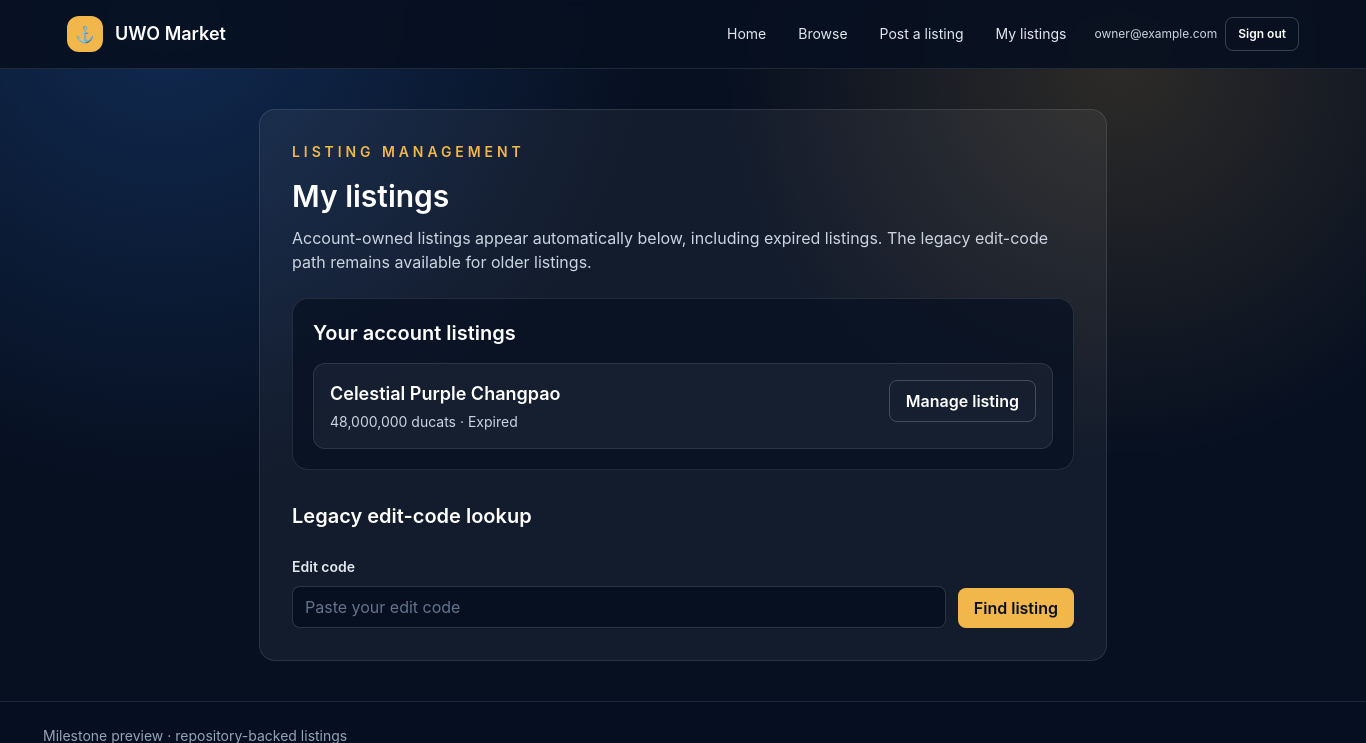
manage listings page › edits an equipment listing's stats and saves them
The width and height of the screenshot is (1366, 743).
Click the button "Manage listing" at (962, 401), box [889,380,1036,422]
(page scrolled)
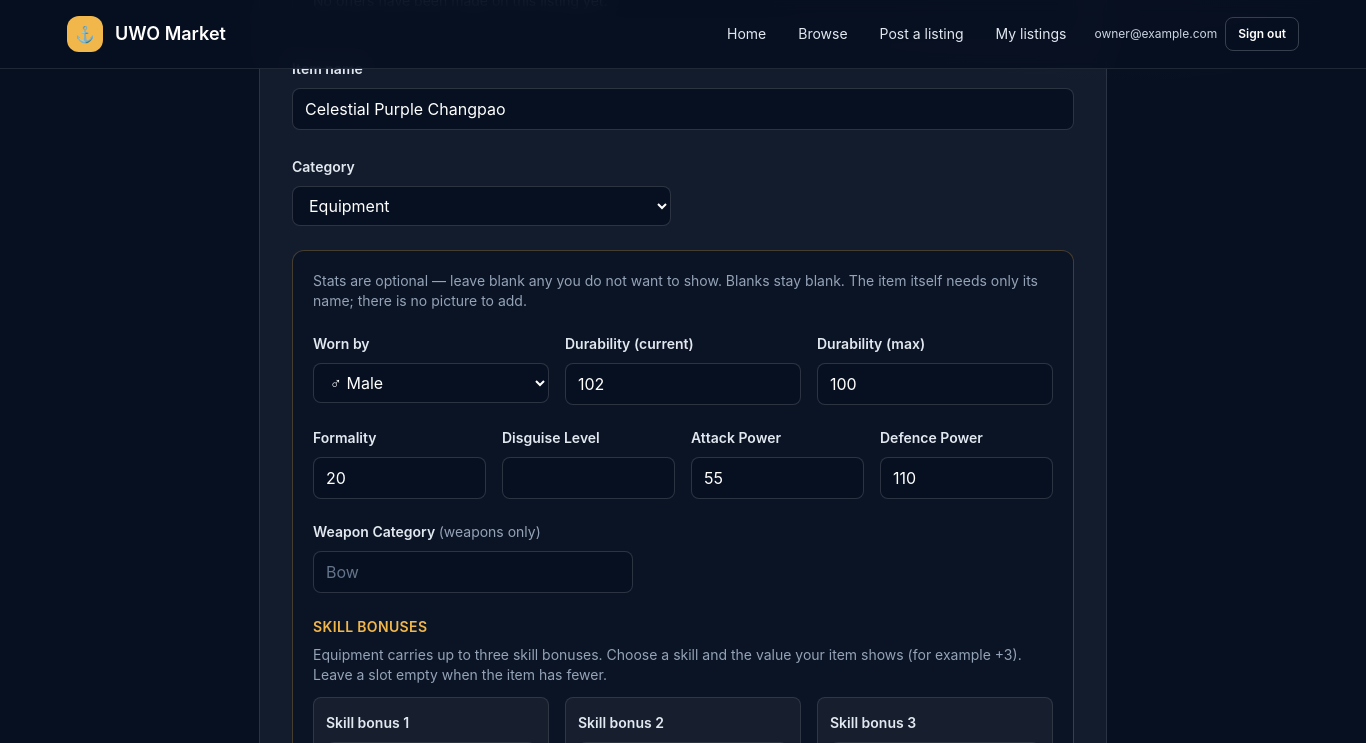
expect the number field labelled "Attack Power" holds "55": met, box [691,457,864,499]
expect the number field labelled "Durability (current)" holds "102": met
expect the dropdown labelled "Worn by" shows "♂ Male": met, box [313,363,549,403]
Replace the text in the number field labelled "Durability (current)" with "97" at (683, 384), box [565,363,801,405]
(page scrolled)
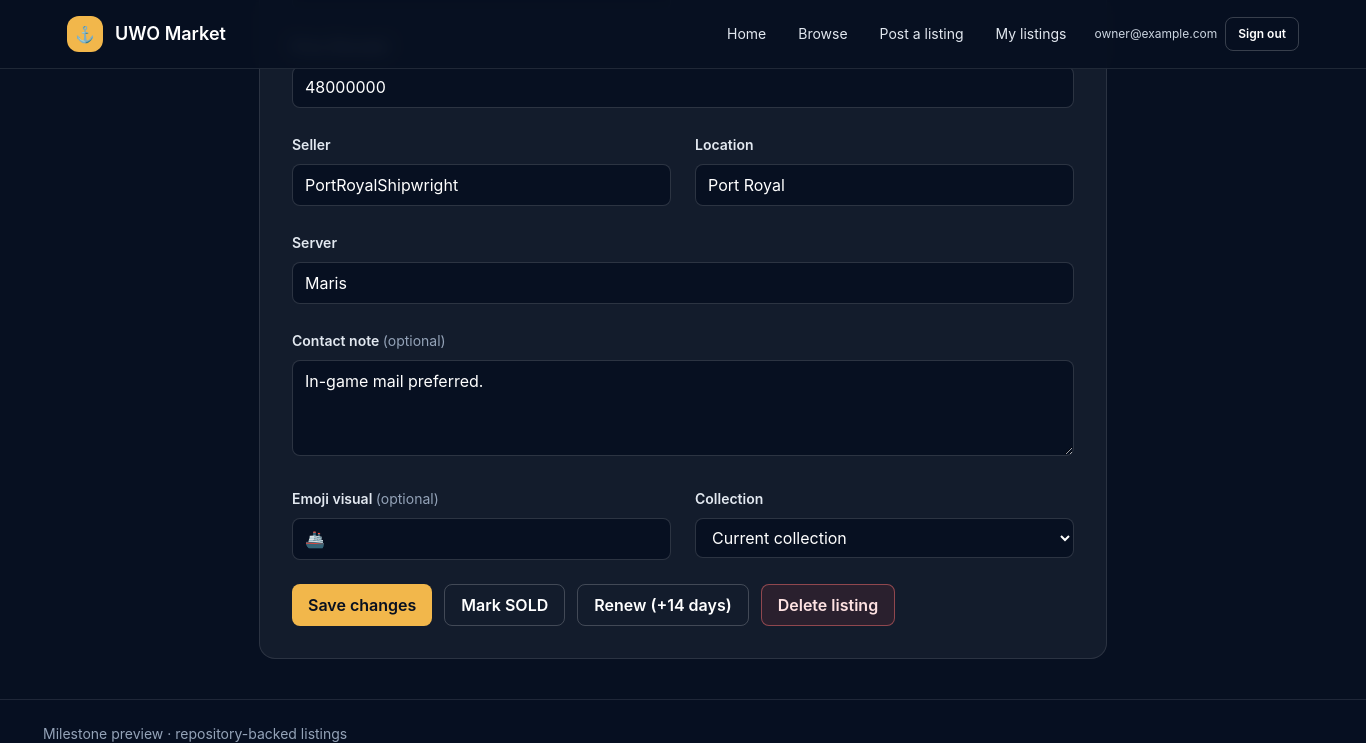
Click the button "Save changes" at (362, 605), box [292,584,432,626]
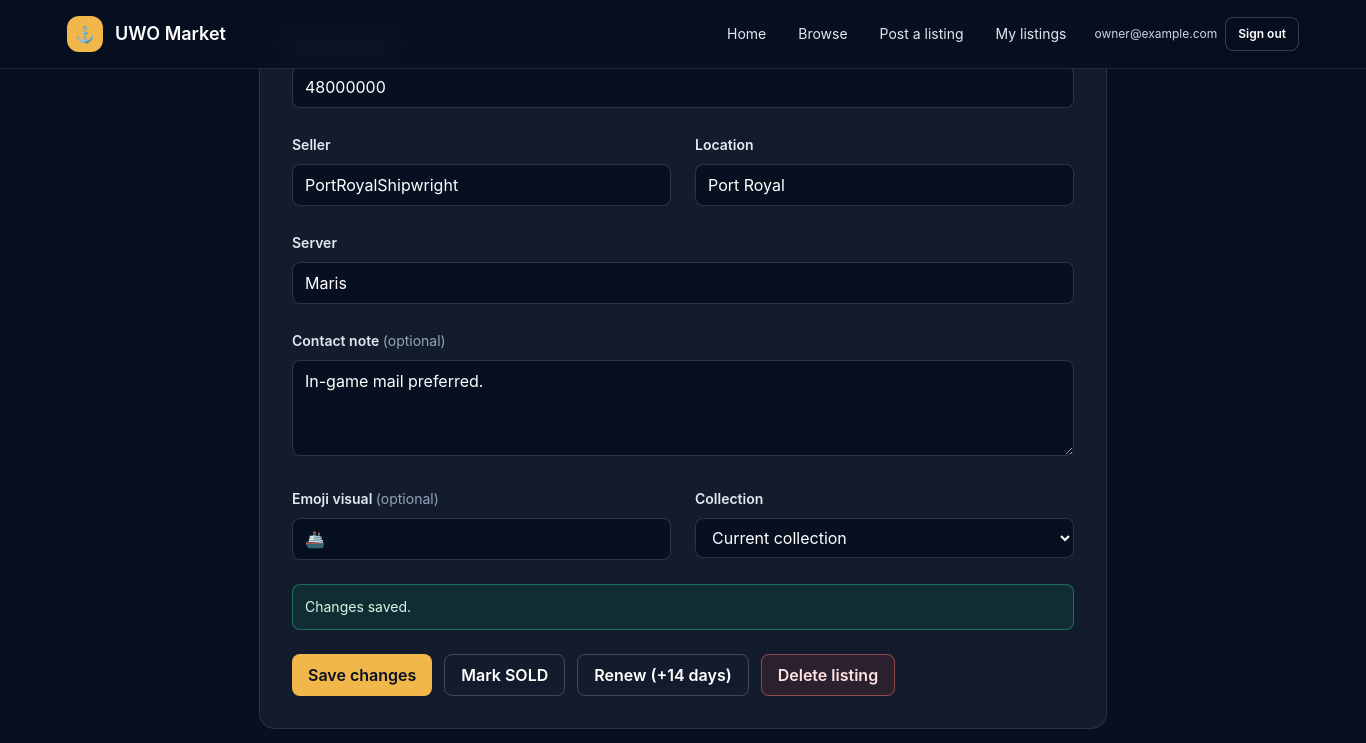
expect the text "Changes saved." is shown: met, box [292,584,1074,630]
